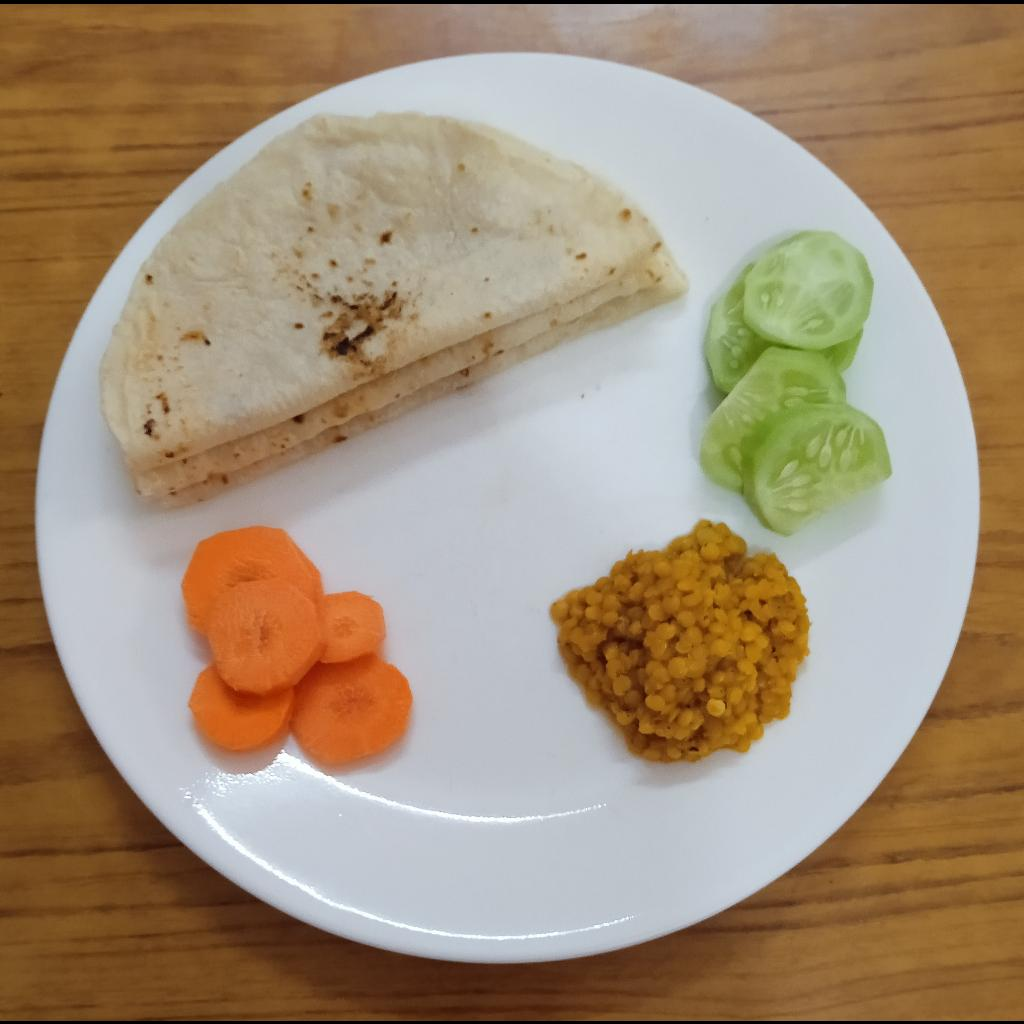carrot: (180, 525, 414, 765)
cucumber: (698, 230, 893, 535)
daal: (549, 519, 810, 763)
ruti: (99, 111, 692, 513)
